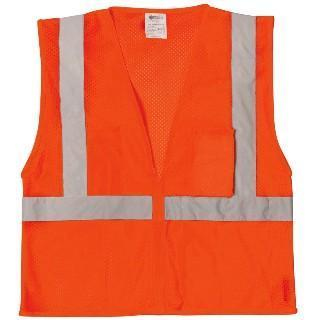vest: (18, 2, 300, 317)
